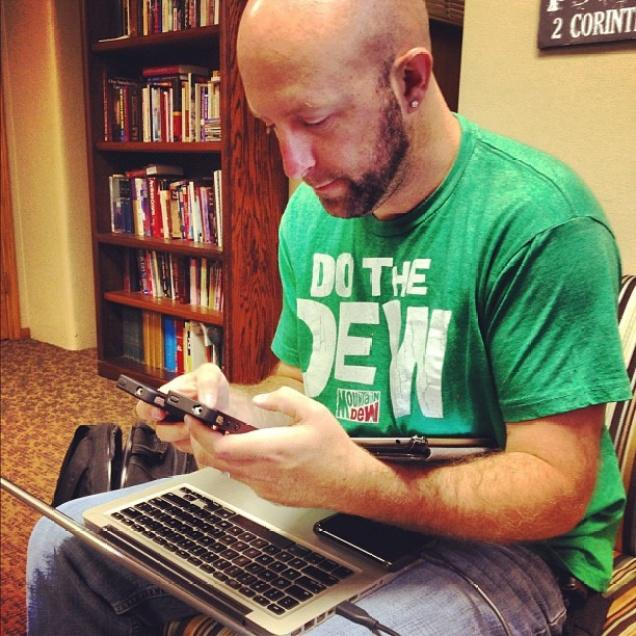Rak: (79, 0, 231, 385)
